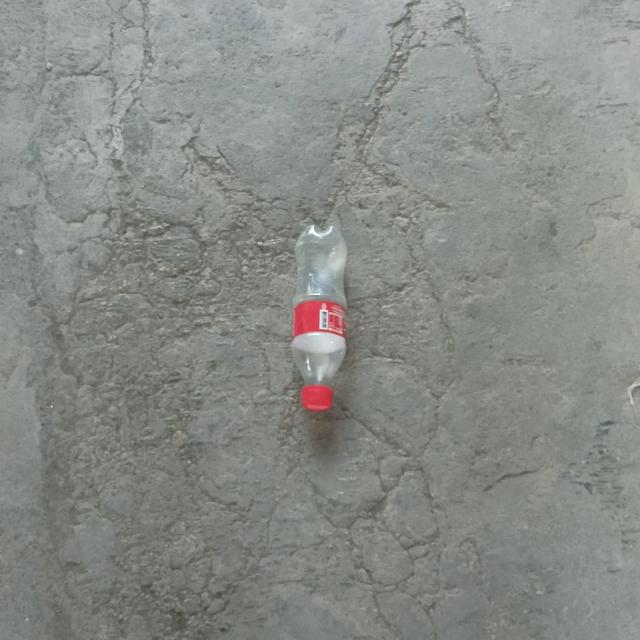Bottle: (291, 225, 347, 410)
